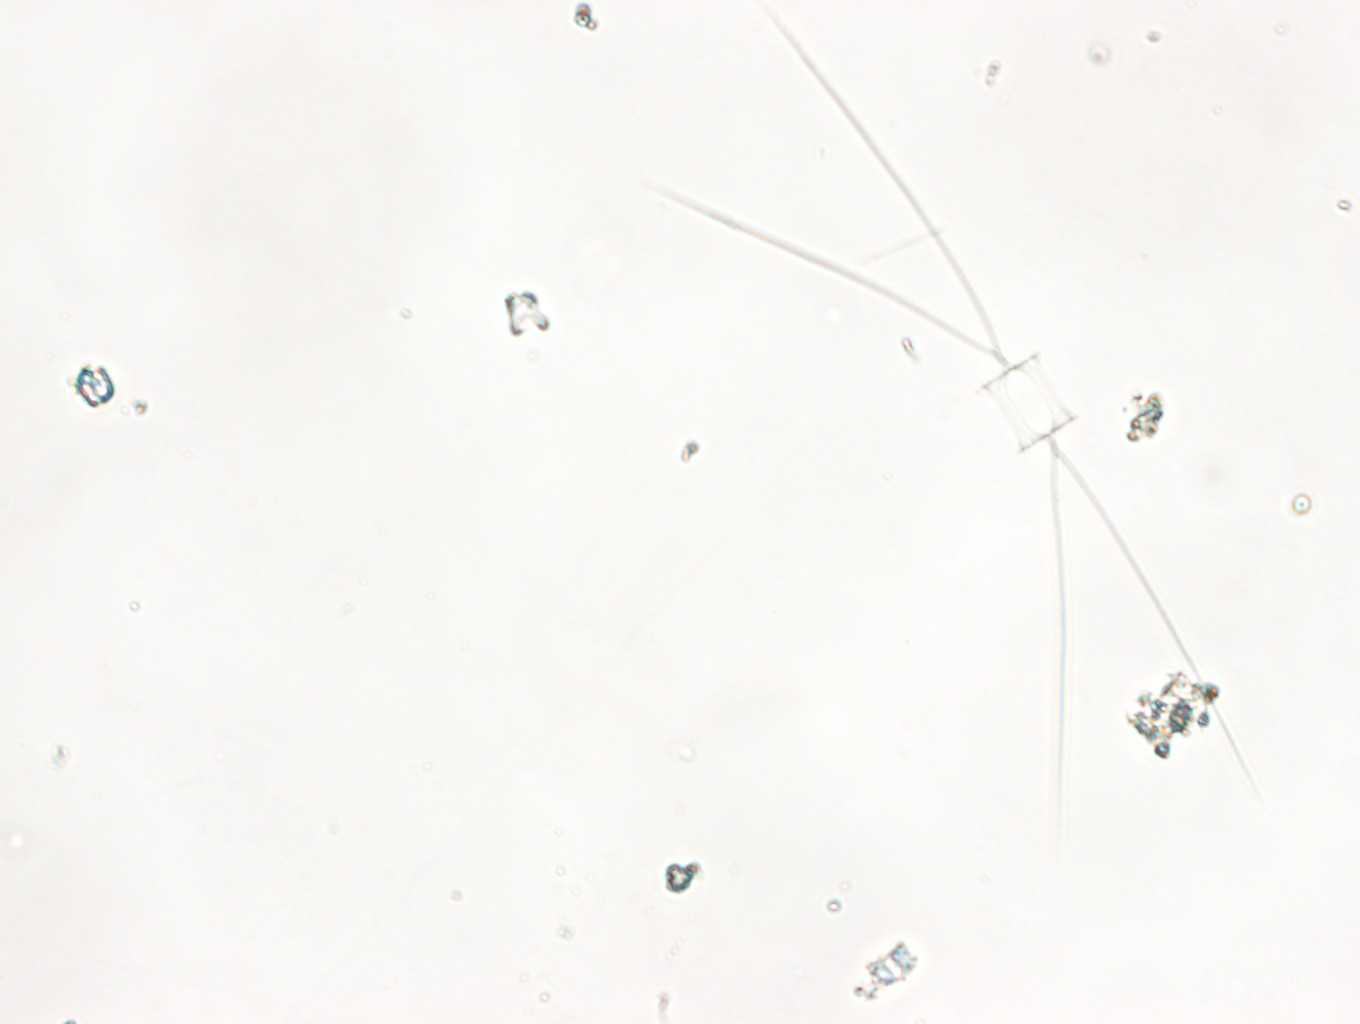chaetoceros: (618, 1, 1255, 816)
